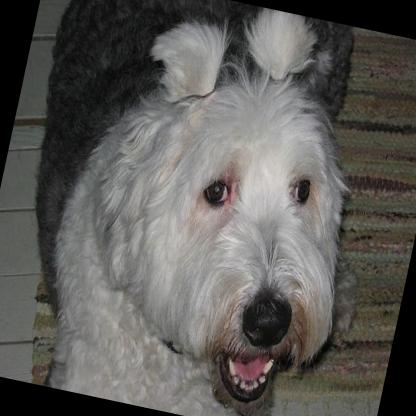Old_English_sheepdog: (0, 0, 395, 416)
